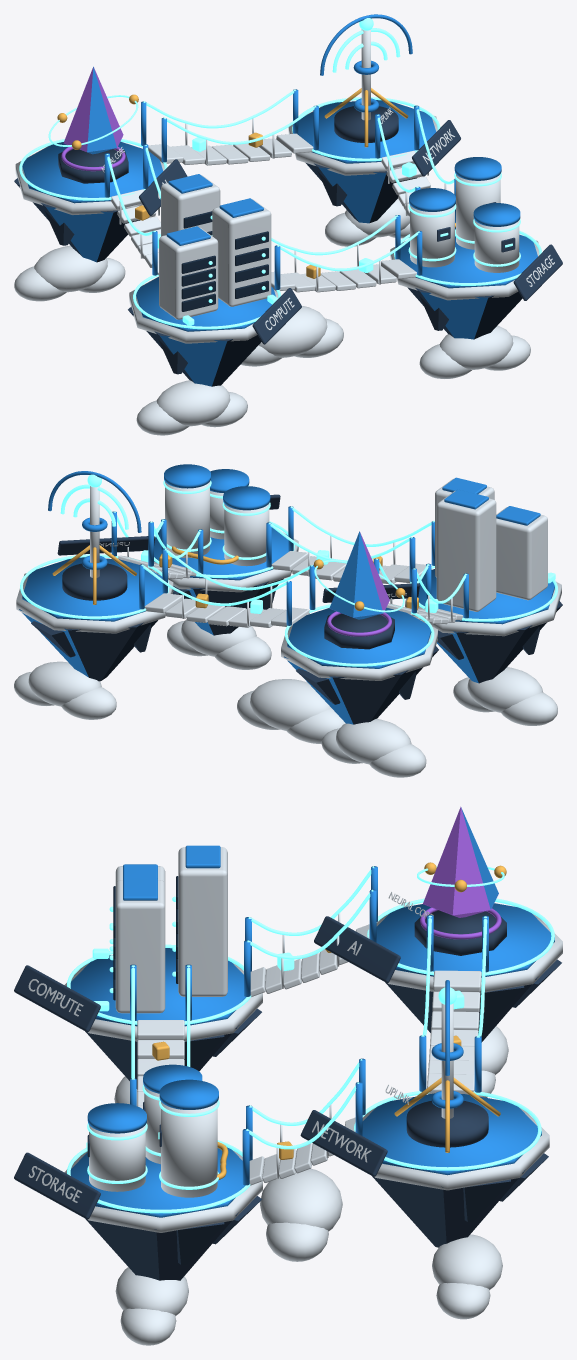
The model's file is 08-azure-archipelago.glb.
3 views of the same model, one above another, from view 1: azimuth 30°, elevation 25°; view 2: azimuth 150°, elevation 25°; view 3: azimuth 270°, elevation 25° (orthographic). The views are drawn at different scales.
Parts seen in each view (by area): view 1: AI blue service terrace, compute server tower 1, network blue service terrace, compute server tower 0, compute floating basalt heart, storage floating basalt heart, AI upper neural crystal, AI floating basalt heart, storage blue service terrace, network floating basalt heart, compute blue service terrace, cloud cluster 0 puff 1 (+40 smaller); view 2: compute server tower 2, AI blue service terrace, network blue service terrace, compute server tower 0, network floating basalt heart, AI floating basalt heart, compute floating basalt heart, cloud cluster 4 puff 1, AI upper neural crystal, storage cylindrical data tank 1, cloud cluster 3 puff 1, storage cylindrical data tank 0 (+54 smaller); view 3: network blue service terrace, compute server tower 2, AI blue service terrace, compute server tower 1, storage cylindrical data tank 1, compute blue service terrace, AI upper neural crystal, storage blue service terrace, network floating basalt heart, cloud cluster 4 puff 1, storage floating basalt heart, storage cylindrical data tank 2 (+37 smaller).
Boxes of the visible parts, <box> form: AI blue service terrace: <box>22,141,163,203</box>; compute server tower 1: <box>212,199,271,306</box>; network blue service terrace: <box>297,100,436,163</box>; compute server tower 0: <box>159,227,218,319</box>; compute floating basalt heart: <box>128,306,261,386</box>; storage floating basalt heart: <box>407,287,522,339</box>; AI upper neural crystal: <box>63,66,123,152</box>; AI floating basalt heart: <box>14,178,140,262</box>; storage blue service terrace: <box>399,227,537,288</box>; network floating basalt heart: <box>306,163,416,223</box>; compute blue service terrace: <box>136,277,275,331</box>; cloud cluster 0 puff 1: <box>156,380,230,426</box>; compute server tower 2: <box>436,490,496,611</box>; AI blue service terrace: <box>287,607,431,668</box>; network blue service terrace: <box>22,557,162,621</box>; compute server tower 0: <box>496,507,547,600</box>; network floating basalt heart: <box>19,609,157,681</box>; AI floating basalt heart: <box>284,645,438,724</box>; compute floating basalt heart: <box>437,600,562,683</box>; cloud cluster 4 puff 1: <box>250,679,331,730</box>; AI upper neural crystal: <box>329,531,389,617</box>; storage cylindrical data tank 1: <box>165,482,209,557</box>; cloud cluster 3 puff 1: <box>336,718,411,764</box>; storage cylindrical data tank 0: <box>224,503,269,566</box>; network blue service terrace: <box>362,1093,541,1175</box>; compute server tower 2: <box>178,847,227,996</box>; AI blue service terrace: <box>376,903,554,977</box>; compute server tower 1: <box>115,880,165,1013</box>; storage cylindrical data tank 1: <box>161,1101,217,1197</box>; compute blue service terrace: <box>70,948,246,1026</box>; AI upper neural crystal: <box>423,806,498,915</box>; storage blue service terrace: <box>66,1147,245,1217</box>; network floating basalt heart: <box>372,1169,525,1247</box>; cloud cluster 4 puff 1: <box>260,1168,342,1231</box>; storage floating basalt heart: <box>85,1212,238,1280</box>; storage cylindrical data tank 2: <box>89,1125,145,1191</box>.
Bounding box in the file's own units: 9.21 × 5.97 × 8.33.
